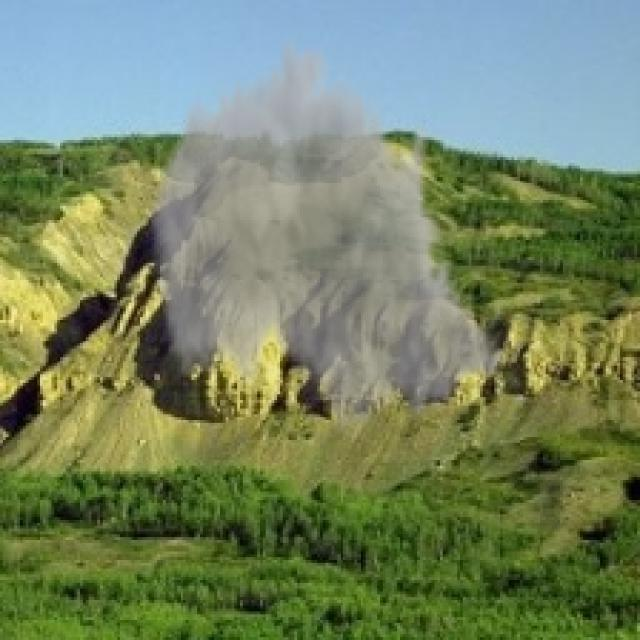smoke: (146, 28, 508, 446)
